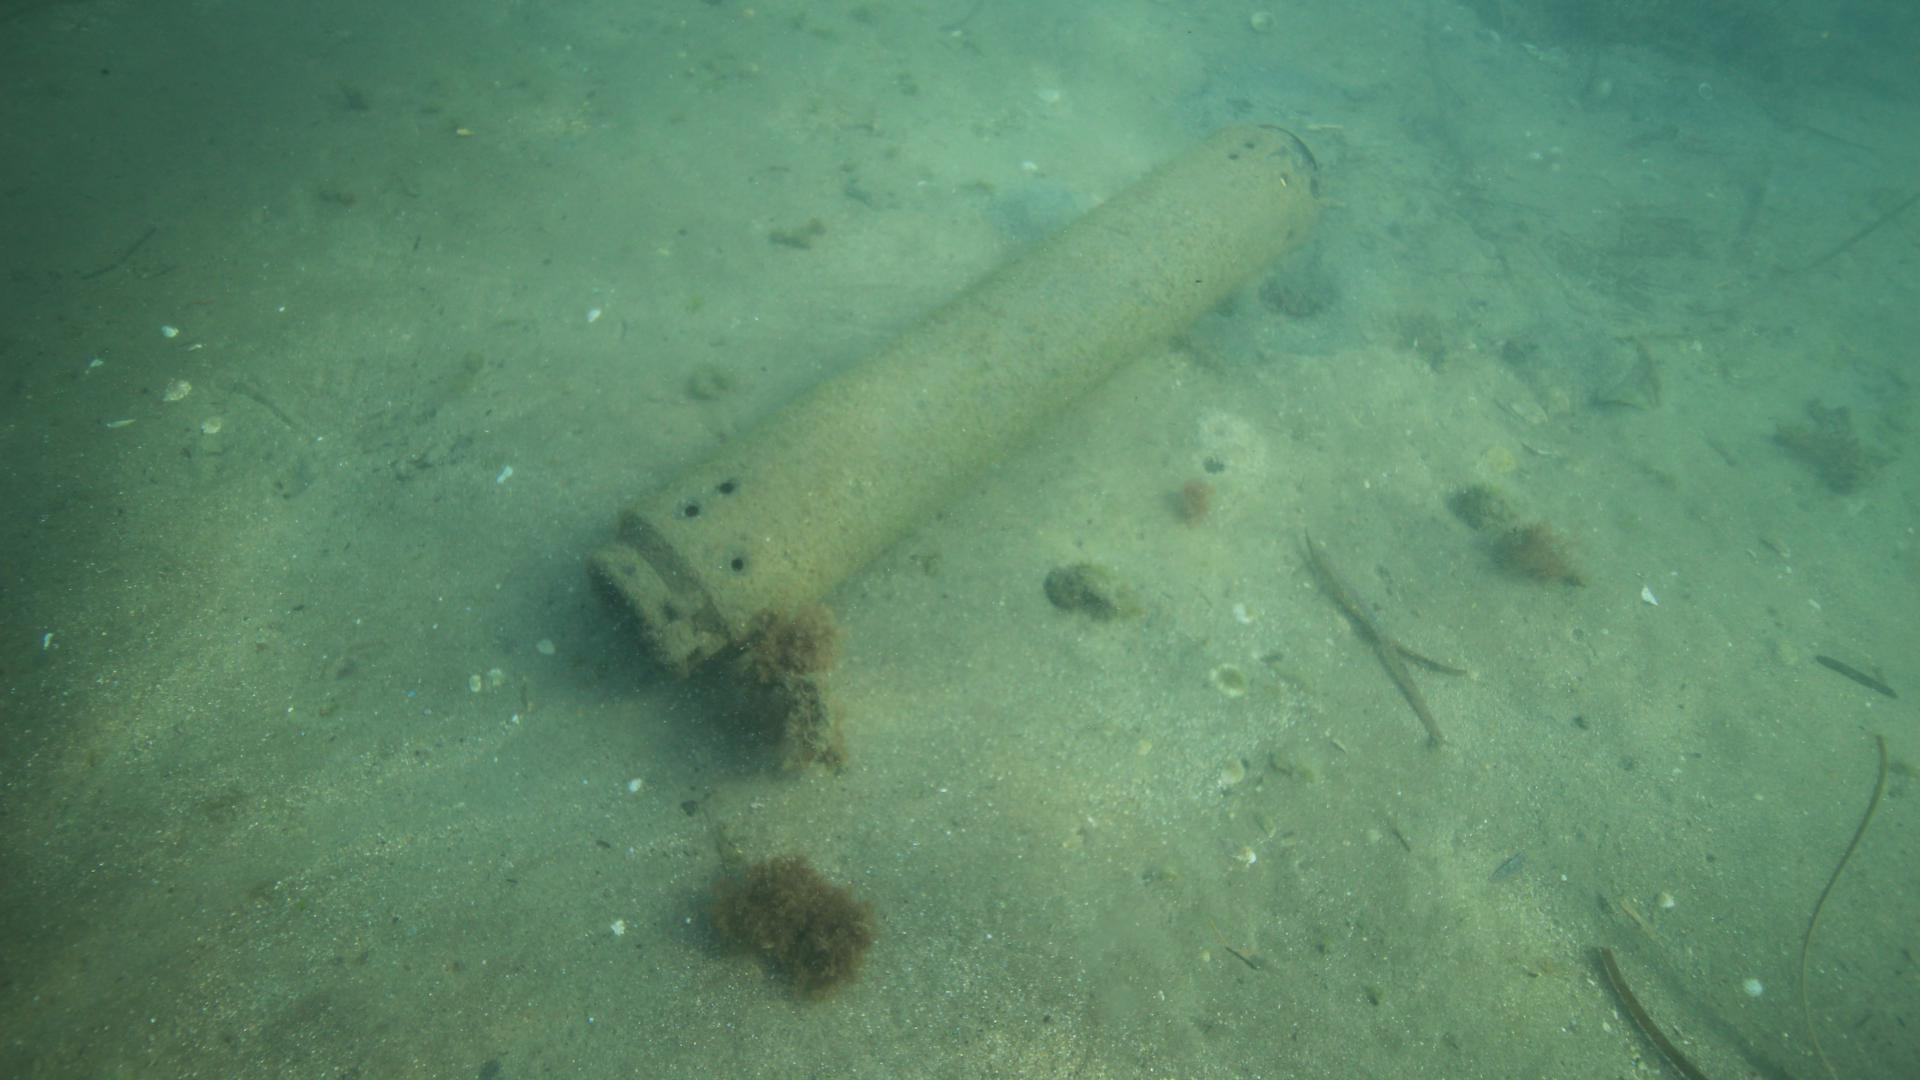eel fish trap: (585, 117, 1329, 680)
